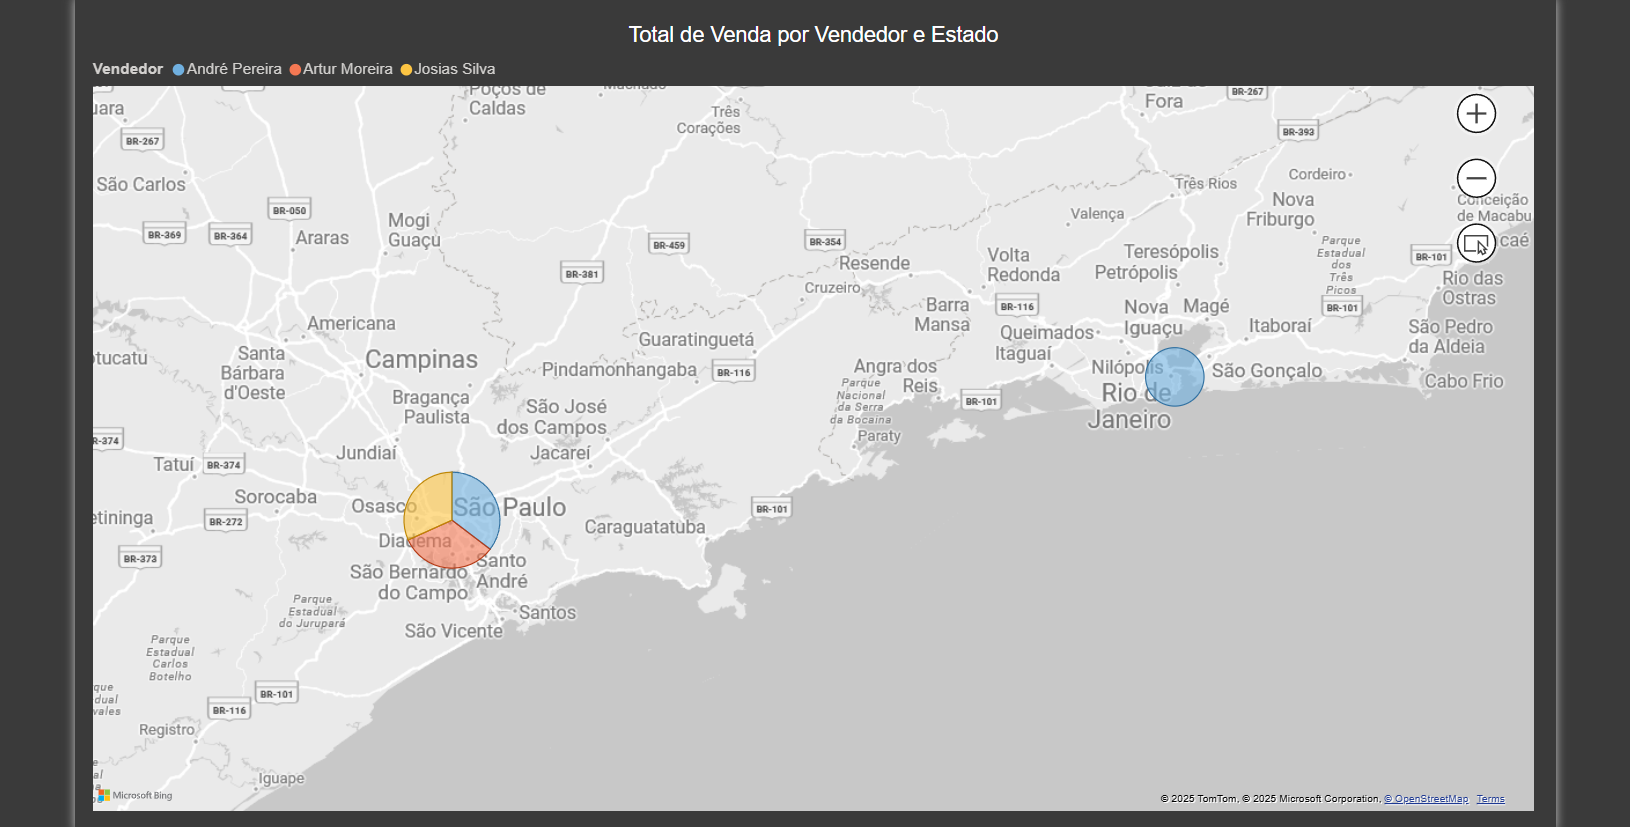

What the dashboard file says about the page in this screenshot:
{"tool":"powerbi","page":{"name":"Performance dos Vendedores Por Região","canvas":[1280,720],"ordinal":4},"visuals":[{"type":"map","title":"Total de Venda por Vendedor e Estado","fields":{"Category":["Vendas.Estado"],"Series":["Vendas.Vendedor"],"Size":["Sum(Vendas.ValorVenda)"]},"box":[10.7,20.4,1255.7,687.7],"z":0}]}

Visuals, with their boxes on the page's 1280x720 design canvas (x1, y1, x2, y2). These are canvas units, not pixel positions in the 1630x827 screenshot, which may show the page scaled, cropped or inside an application window:
"Total de Venda por Vendedor e Estado" map: 11/20/1266/708
